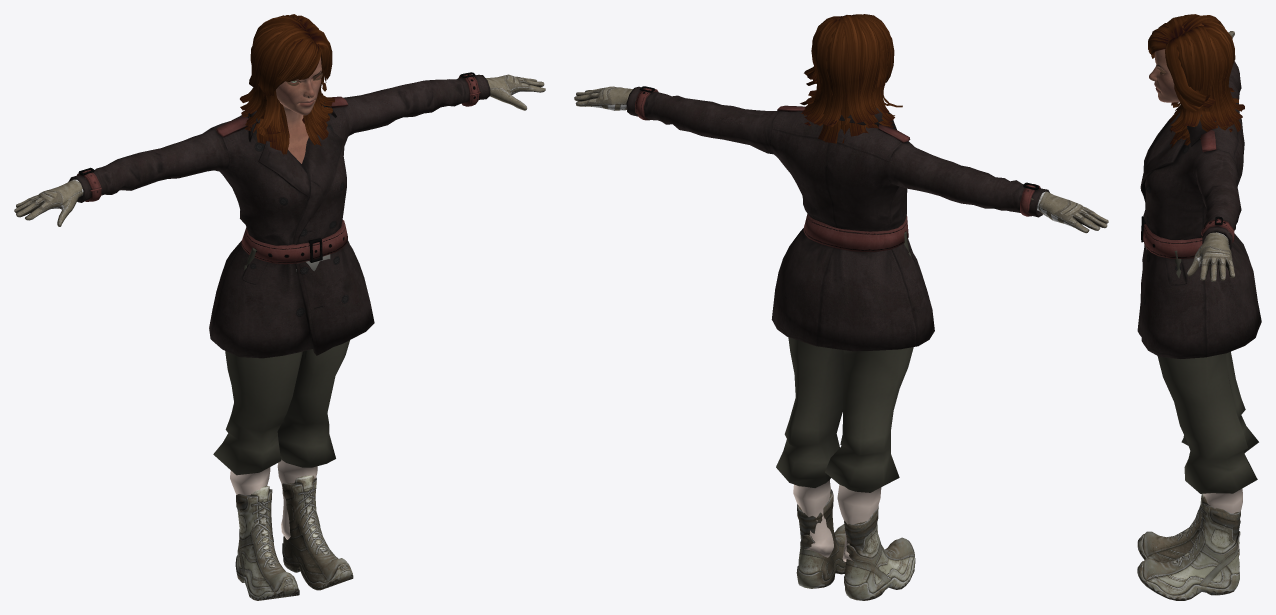
Rendered from modelw6.obj.
3 renders of one model, left to right at view 1: azimuth 30°, elevation 25°; view 2: azimuth 150°, elevation 25°; view 3: azimuth 270°, elevation 25°, orthographic.
Visible parts, largest first — view 1: Tops, Bottoms, Shoes, Hair, Gloves, Body; view 2: Tops, Bottoms, Hair, Shoes, Gloves; view 3: Tops, Bottoms, Hair, Shoes, Gloves, Body.
Part boxes in pixels (left/top/right/bottom): Tops: left=68, top=72, right=490, bottom=358; Bottoms: left=213, top=247, right=349, bottom=539; Shoes: left=235, top=475, right=353, bottom=600; Hair: left=240, top=14, right=334, bottom=154; Gloves: left=14, top=74, right=545, bottom=226; Body: left=276, top=57, right=321, bottom=163; Tops: left=626, top=86, right=1049, bottom=351; Bottoms: left=776, top=231, right=913, bottom=561; Hair: left=800, top=14, right=902, bottom=143; Shoes: left=796, top=485, right=915, bottom=600; Gloves: left=574, top=86, right=1108, bottom=233; Tops: left=1137, top=61, right=1261, bottom=358; Bottoms: left=1144, top=243, right=1258, bottom=550; Hair: left=1148, top=14, right=1244, bottom=148; Shoes: left=1137, top=493, right=1240, bottom=600; Gloves: left=1187, top=31, right=1235, bottom=281; Body: left=1149, top=49, right=1179, bottom=102.
Size of the model in its own units: 170 by 174 by 34.9.
Materials: 6 (6 with a texture image).
